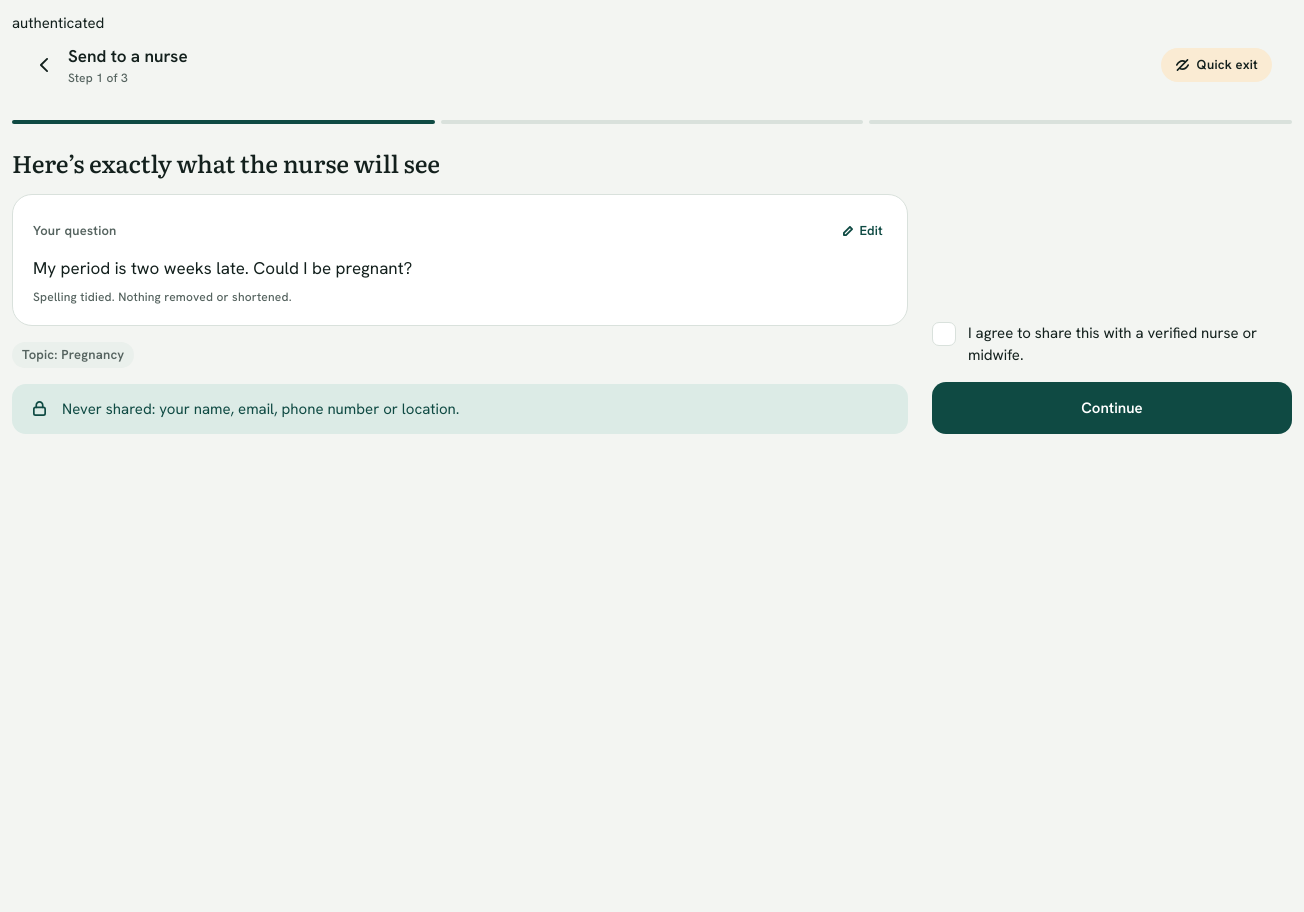
Test case: Send to a nurse (W07-W10) › sends the reviewed draft with consent and lands on Waiting
Expected: the text "authenticated" is shown, [12, 13, 104, 33]
Expected: the heading "Here’s exactly what the nurse will see" is shown, [12, 145, 440, 180]
# Continue without the tick asks for it and stays on W07.
Click the button "Continue": click(1112, 408) [932, 382, 1292, 434]
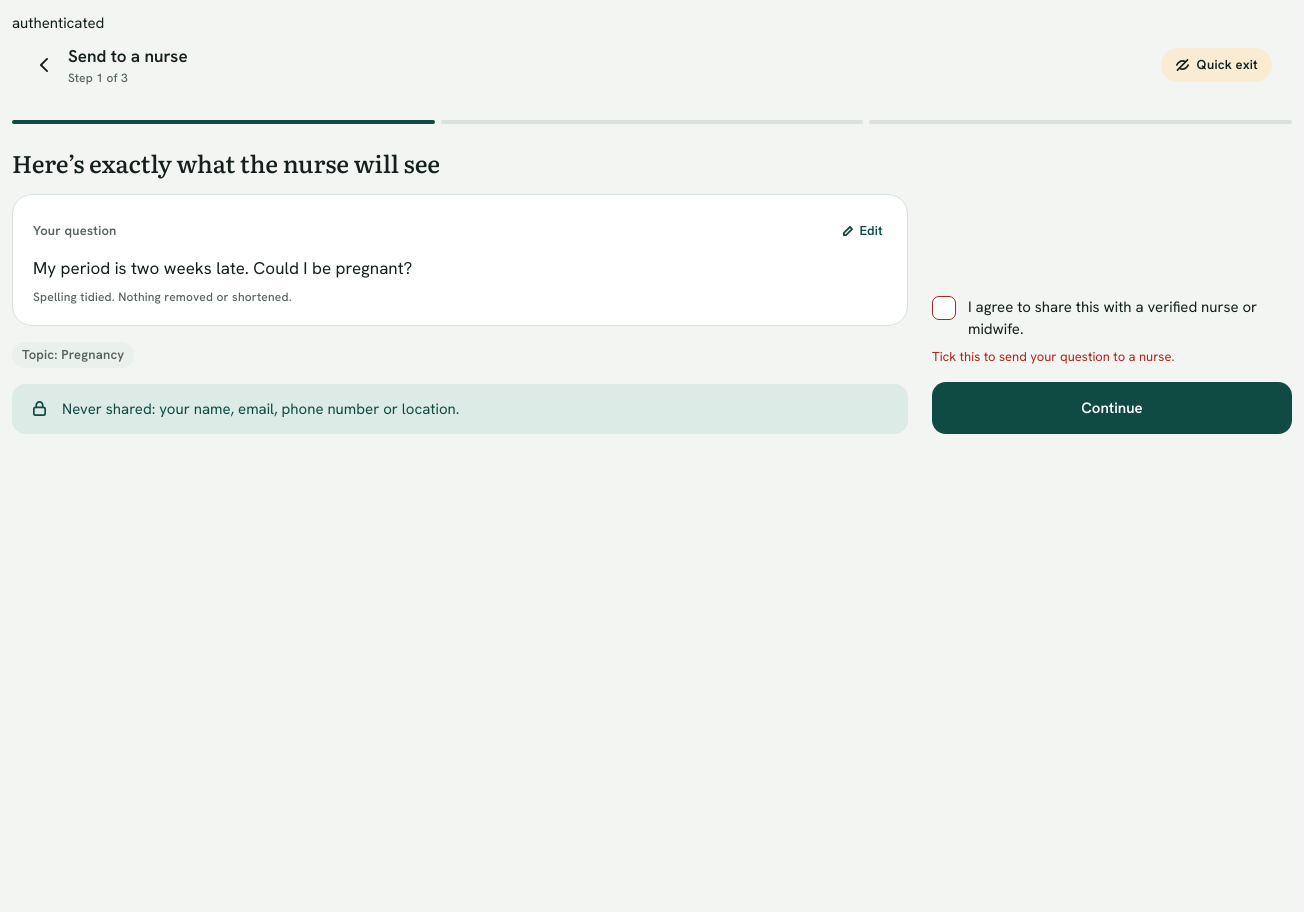
Expected: the text "Who should answer?" is not shown
Expected: the text "Tick this to send your question to a nurse." is shown, [932, 348, 1174, 365]
Click the checkbox labelled "I agree to share this with a verified nurse or midwife.": click(1112, 318) [932, 296, 1292, 340]
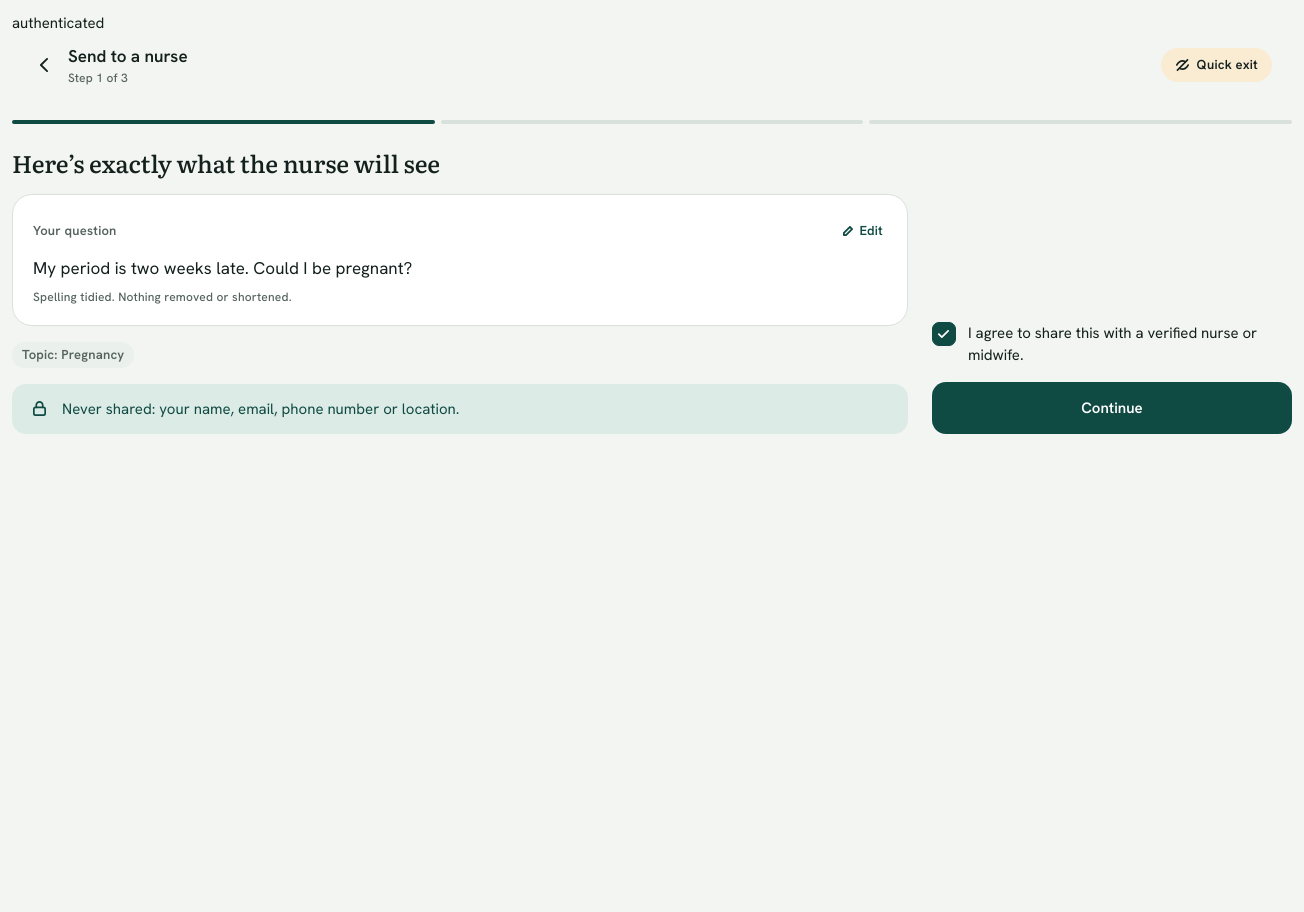
Click the button "Continue": click(1112, 408) [932, 382, 1292, 434]
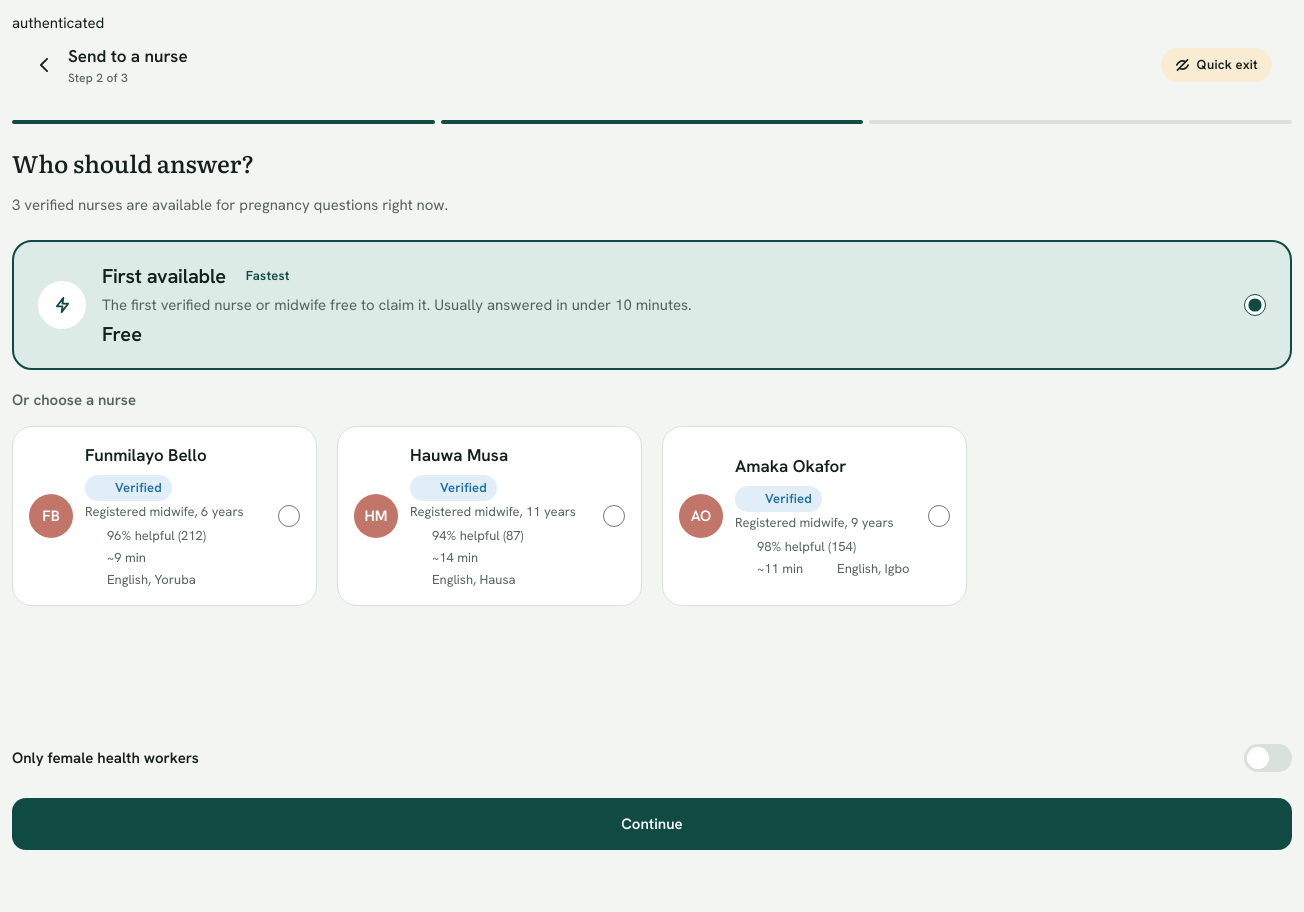
Expected: the heading "Who should answer?" is shown, [12, 145, 254, 180]
Expected: the radio button labelled "First available" is checked, [1244, 294, 1266, 316]
Click the button "Continue": click(652, 824) [12, 798, 1292, 850]
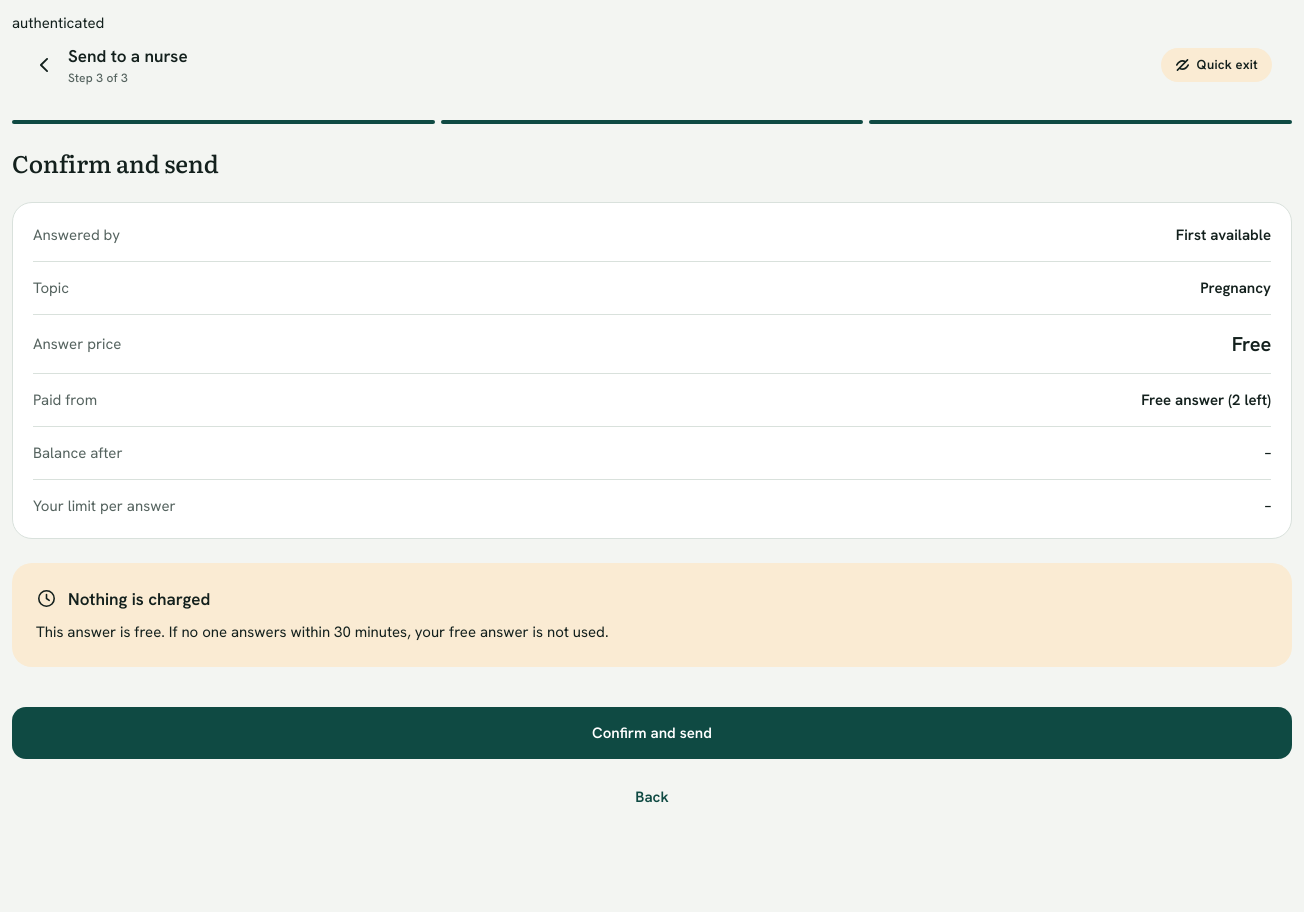
Expected: the heading "Confirm and send" is shown, [12, 145, 219, 180]
Click the button "Confirm and send": click(652, 733) [12, 707, 1292, 759]
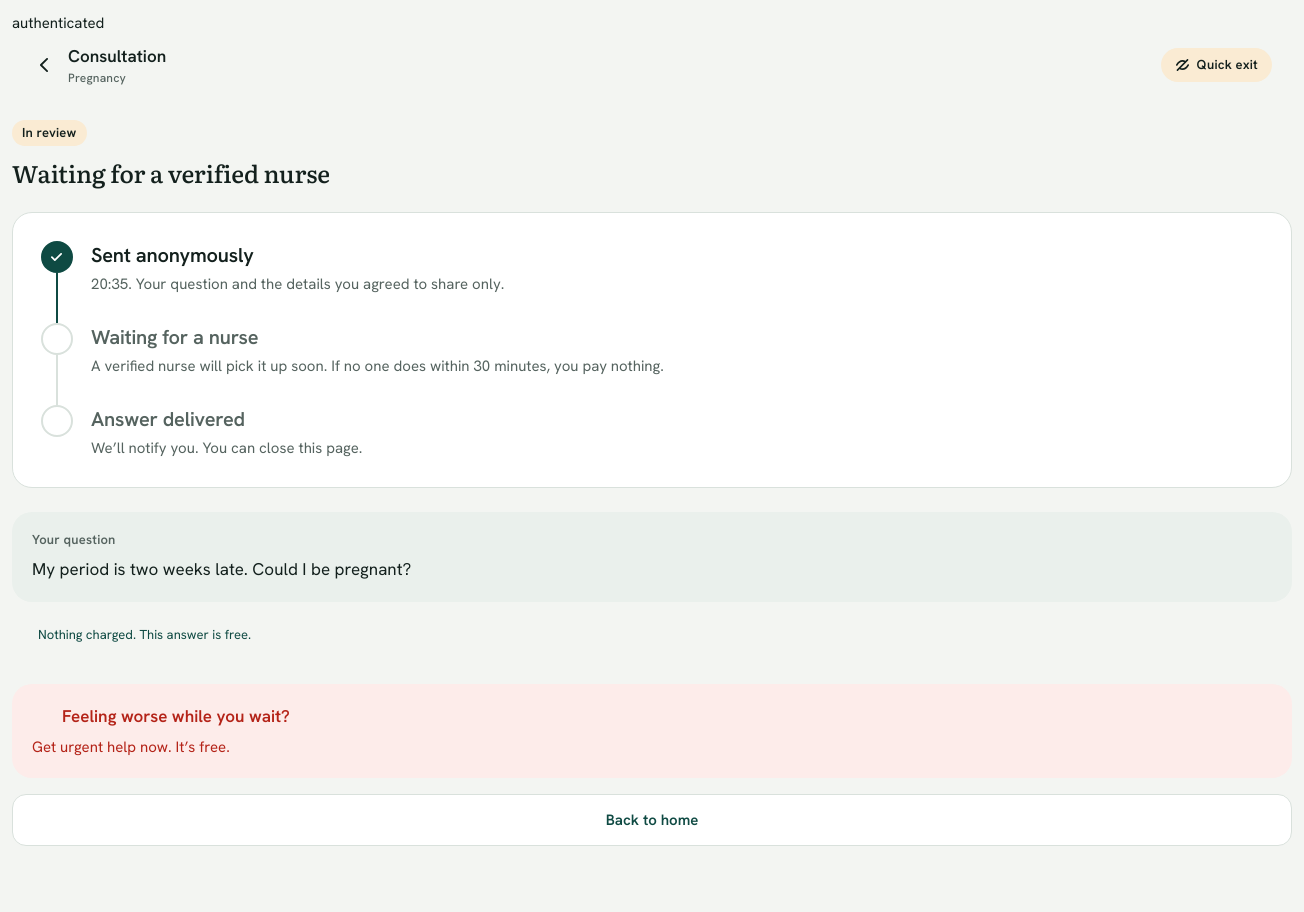
Expected: the heading "Waiting for a verified nurse" is shown, [12, 158, 330, 188]
